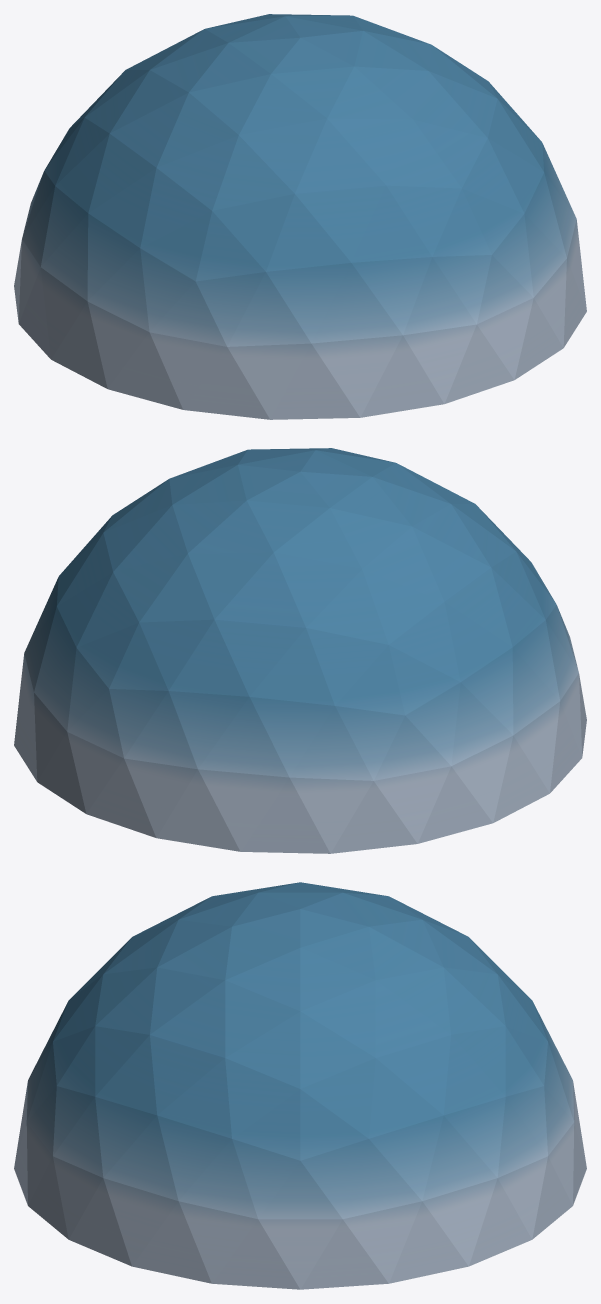
The model's file is Sky_01.fbx.
3 renders of one model, top to bottom at view 1: azimuth 30°, elevation 25°; view 2: azimuth 150°, elevation 25°; view 3: azimuth 270°, elevation 25°, orthographic.
Parts seen in each view (by area): view 1: Sky_01; view 2: Sky_01; view 3: Sky_01.
Boxes of the visible parts, <box> form: Sky_01: <box>14,14,586,419</box>; Sky_01: <box>14,448,586,853</box>; Sky_01: <box>14,882,586,1289</box>.
Bounding box in the file's own units: 200 × 100 × 200.
